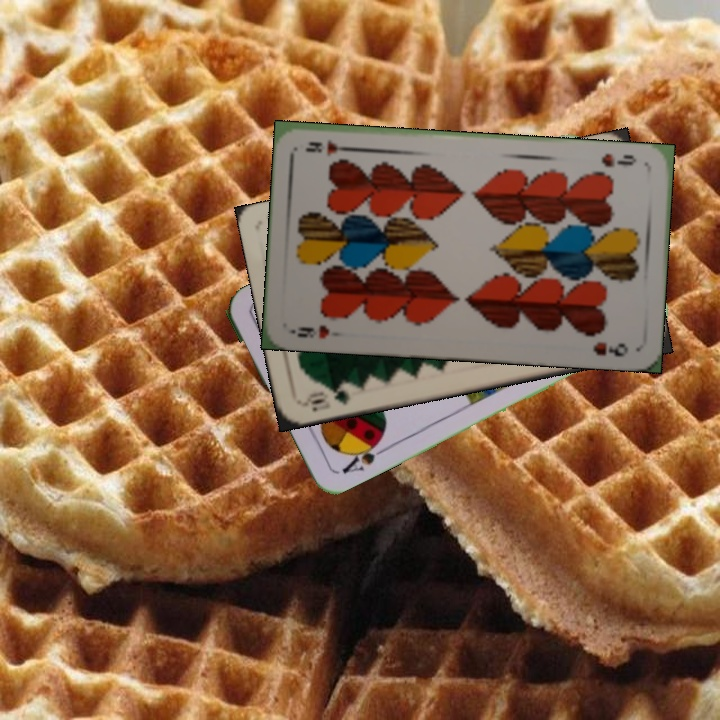G10: (300, 383, 352, 410)
H9: (287, 321, 332, 341), (597, 150, 639, 170)
SA: (338, 436, 387, 477)
